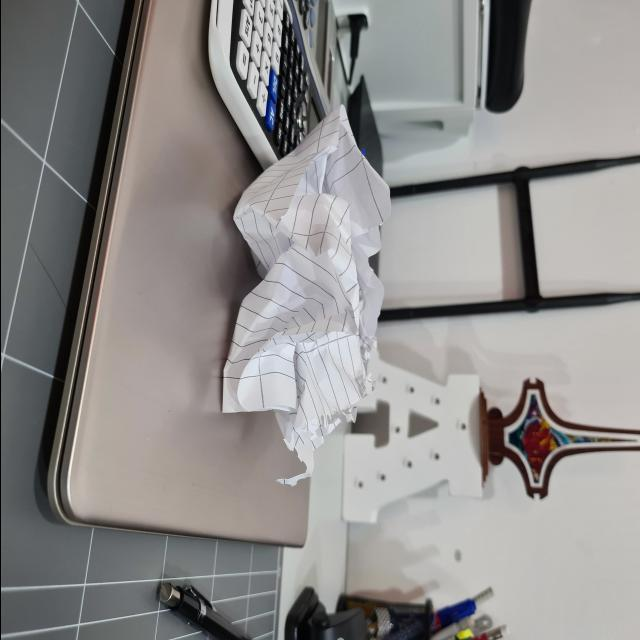Paper: (214, 77, 433, 486)
